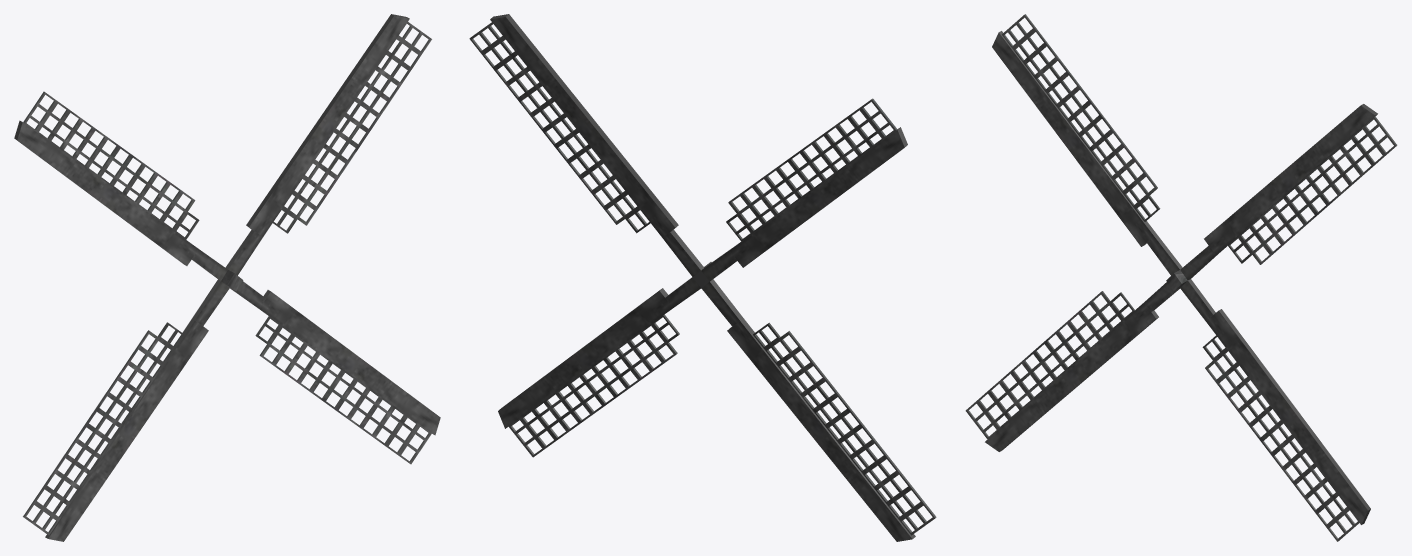
Rendered from windmill_blades.glb.
The picture shows the model from 3 angles, left to right: view 1: azimuth 30°, elevation 25°; view 2: azimuth 150°, elevation 25°; view 3: azimuth 330°, elevation 25°; orthographic projection. The views are drawn at different scales.
Visible parts, largest first — view 1: prefab; view 2: prefab; view 3: prefab.
Part boxes in pixels (left/top/right/bottom): prefab: left=14, top=14, right=440, bottom=541; prefab: left=469, top=14, right=936, bottom=541; prefab: left=965, top=14, right=1397, bottom=541.
Size of the model in its own units: 10.37 by 10.26 by 1.01.
Materials: 1 (1 with a texture image).
